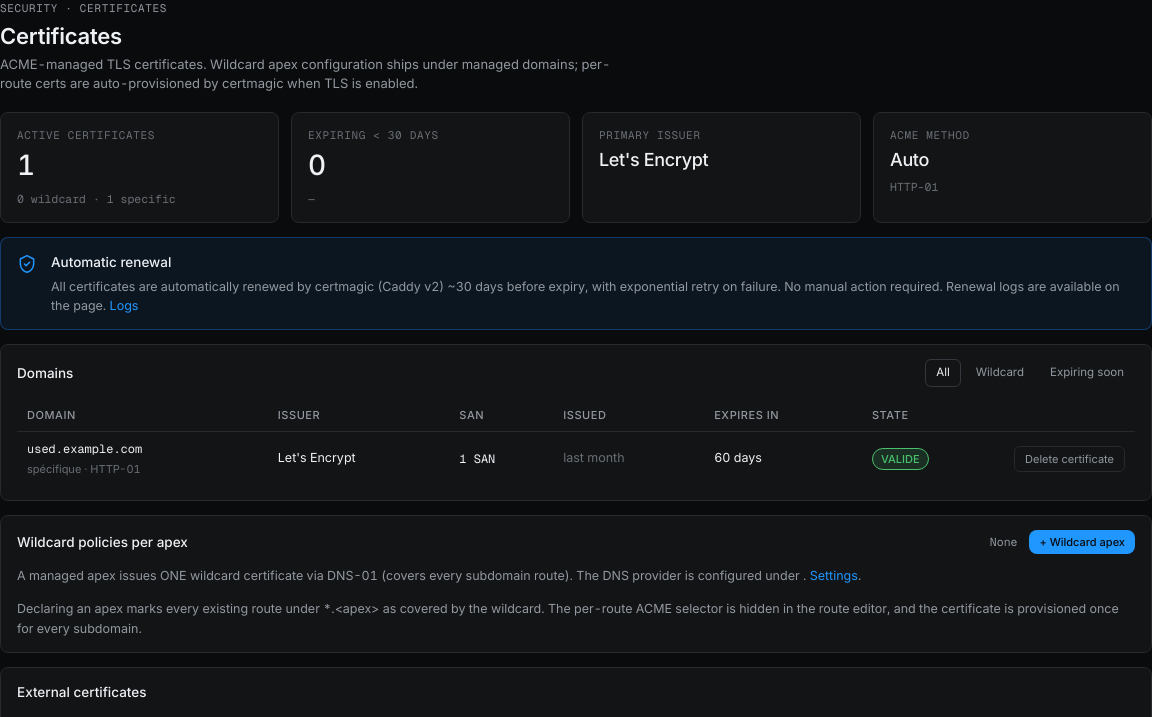
Scenario: /certs — cert delete action (Task 7) › shows the blocked dialog with the blocking routes on 409
Click the button with test id "cert-delete-used.example.com" at (1070, 459), box [1014,446,1125,472]
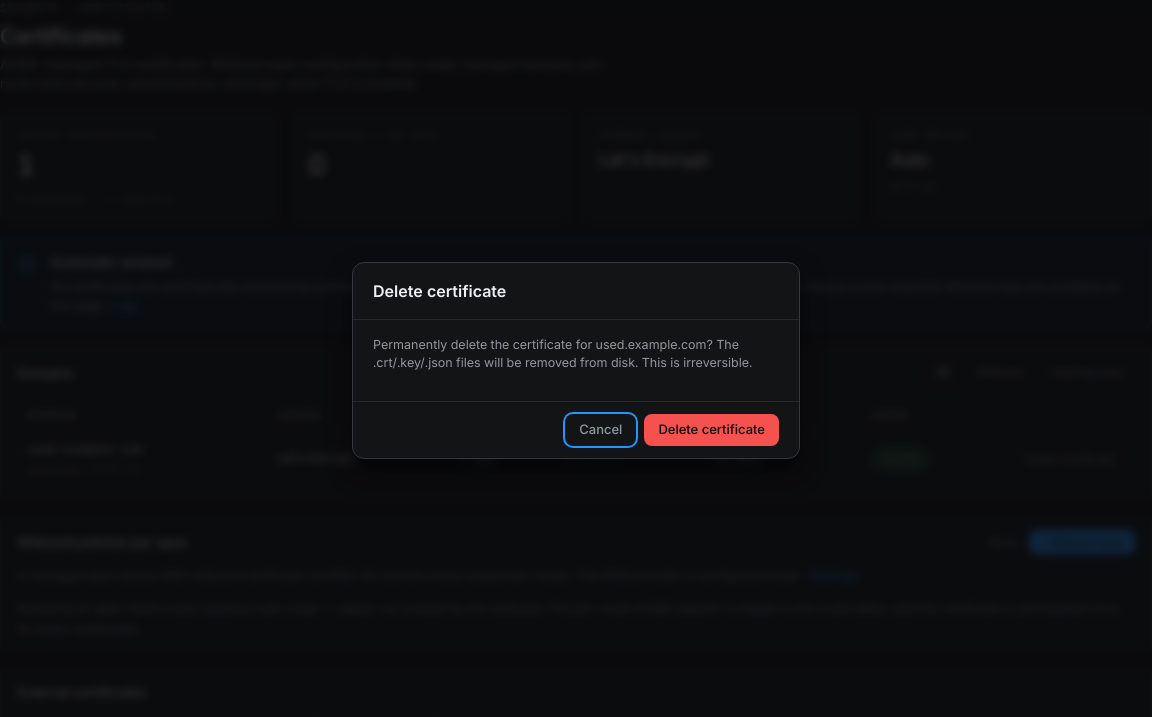
Click the button with test id "cert-delete-confirm" at (712, 430), box [644,414,779,446]
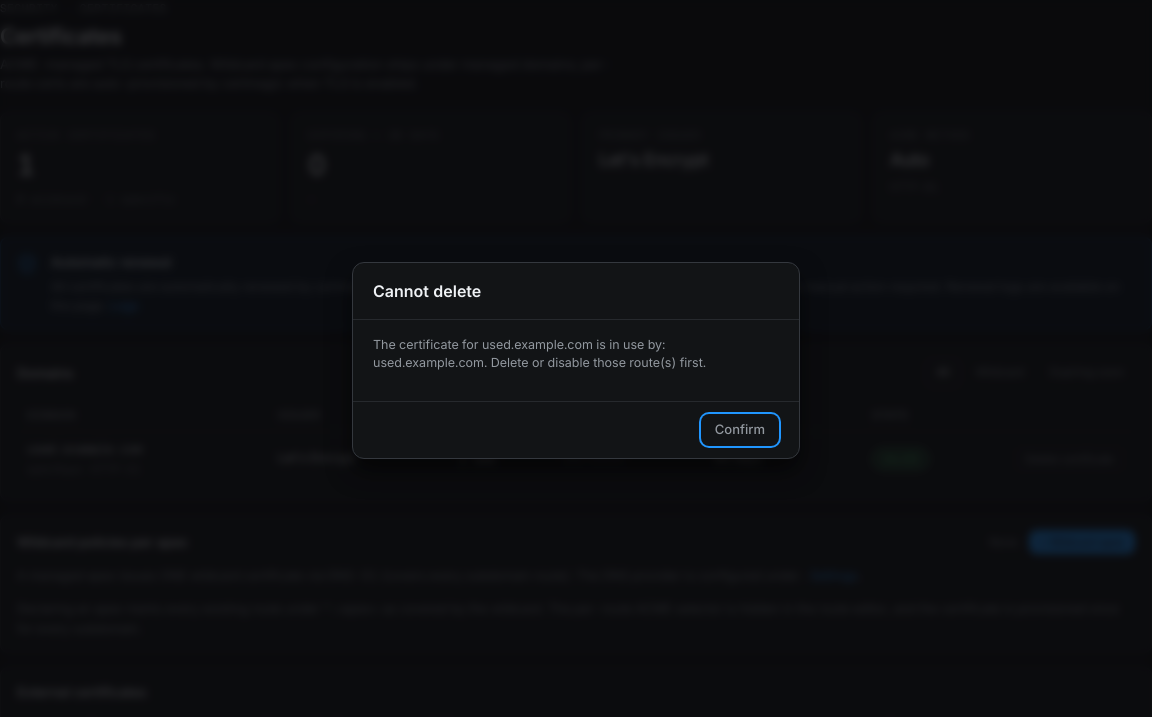
Result: the text "is in use by: used.example.com" is shown at [373,336,706,370]
